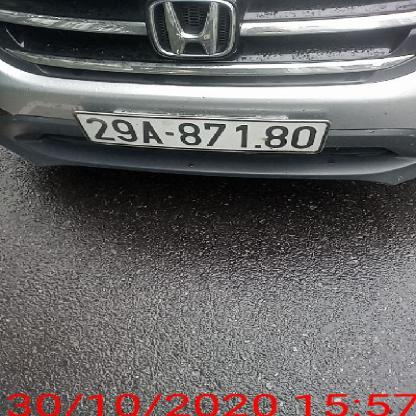biensoxe: (75, 112, 331, 152)
